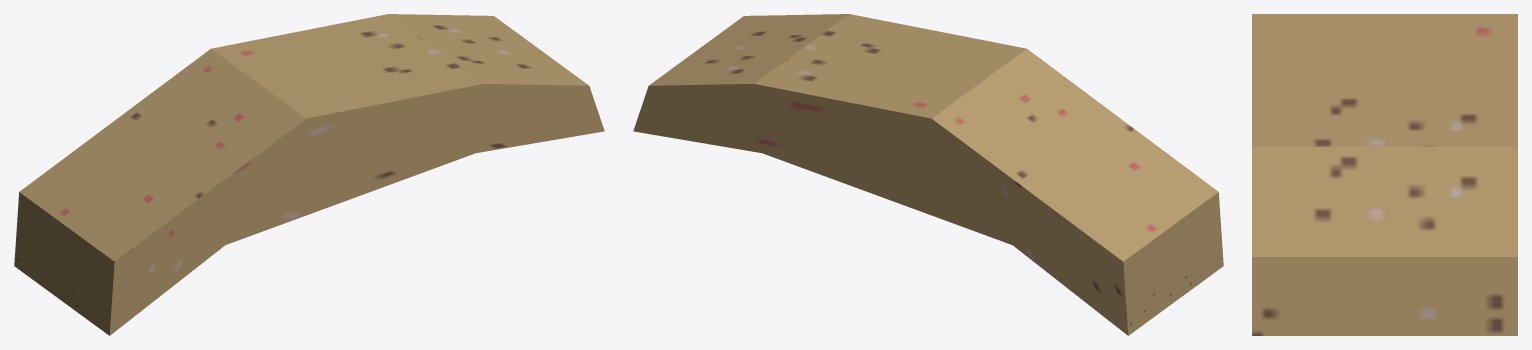
Rendered from telephone_petittruc.fbx.
3 views of the same model, side by side, from view 1: azimuth 30°, elevation 25°; view 2: azimuth 150°, elevation 25°; view 3: azimuth 270°, elevation 25° (orthographic). The views are drawn at different scales.
Parts seen in each view (by area): view 1: Cube.007; view 2: Cube.007; view 3: Cube.007.
Part boxes in pixels (x1=…): Cube.007: x1=14, y1=14, x2=604, y2=335; Cube.007: x1=633, y1=14, x2=1223, y2=335; Cube.007: x1=1252, y1=14, x2=1517, y2=335.
Bounding box in the file's own units: 79.6 × 26.03 × 26.58.
